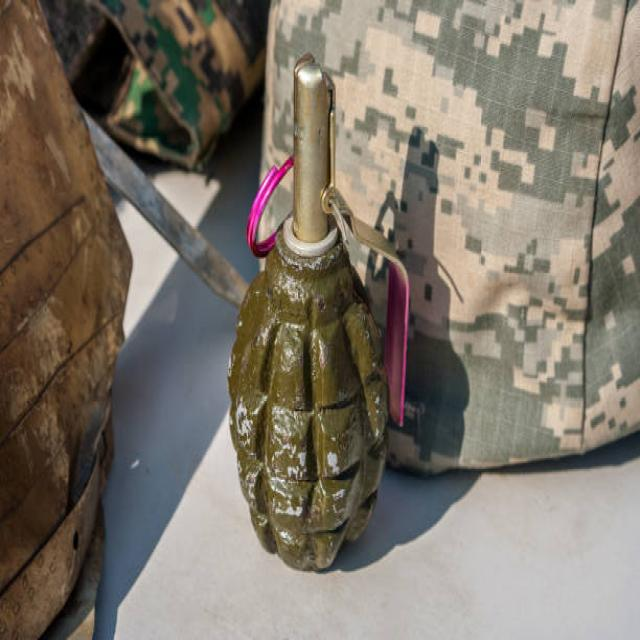grenade: (225, 49, 414, 578)
